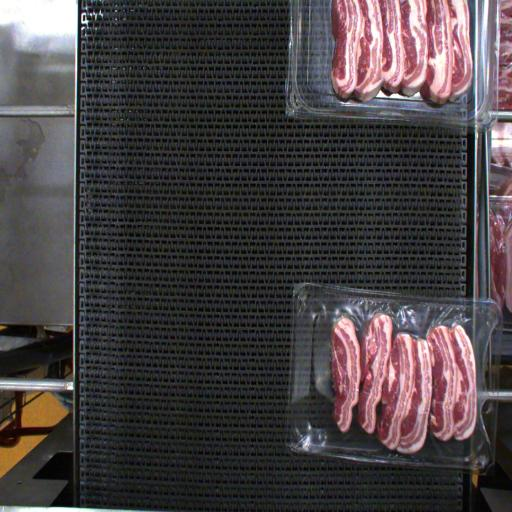unsealed: (300, 290, 486, 436)
